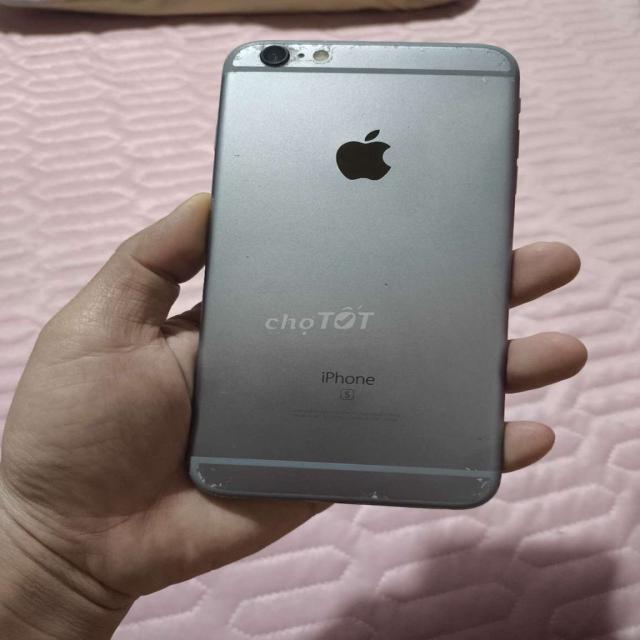gen_6: (188, 40, 518, 508)
